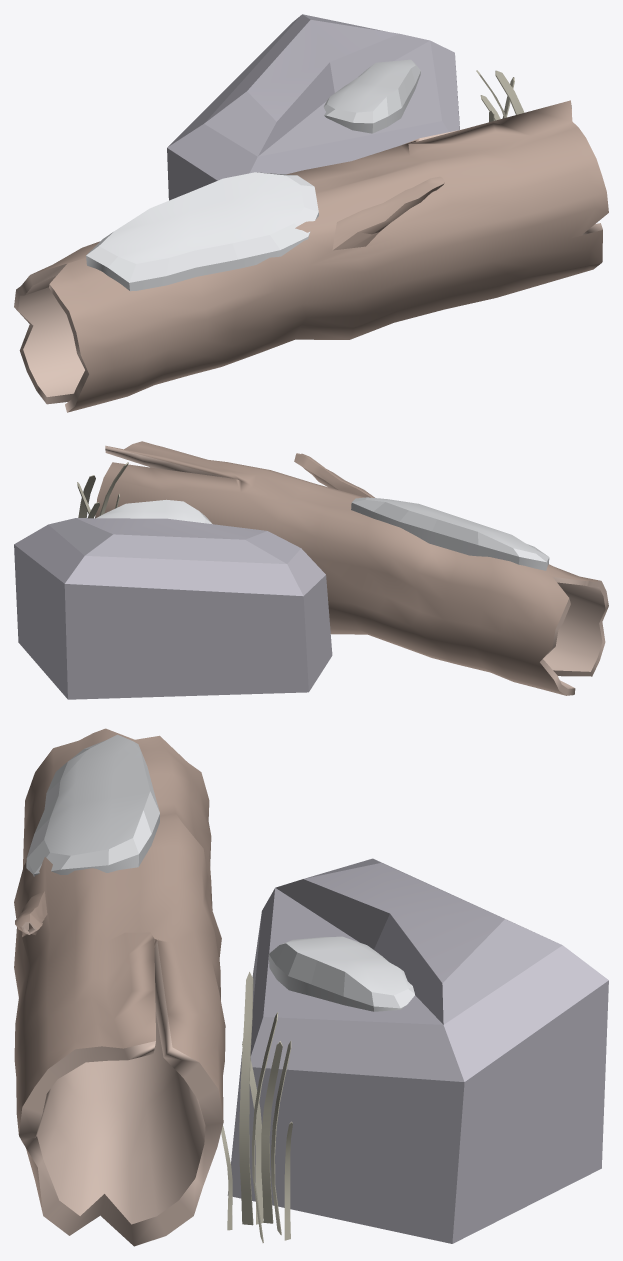
File: Mountain_boomstronk_rotsblok.fbx
The picture shows the model from 3 angles, top to bottom: view 1: azimuth 30°, elevation 25°; view 2: azimuth 150°, elevation 25°; view 3: azimuth 270°, elevation 25°; orthographic projection. The views are drawn at different scales.
Parts seen in each view (by area): view 1: polySurface851; view 2: polySurface851; view 3: polySurface851.
Part boxes in pixels (box(x1,y1,x2,y2)): polySurface851: box(14, 14, 608, 412); polySurface851: box(14, 441, 608, 699); polySurface851: box(14, 728, 608, 1246).
Size of the model in its own units: 5.61 by 1.87 by 3.85.
